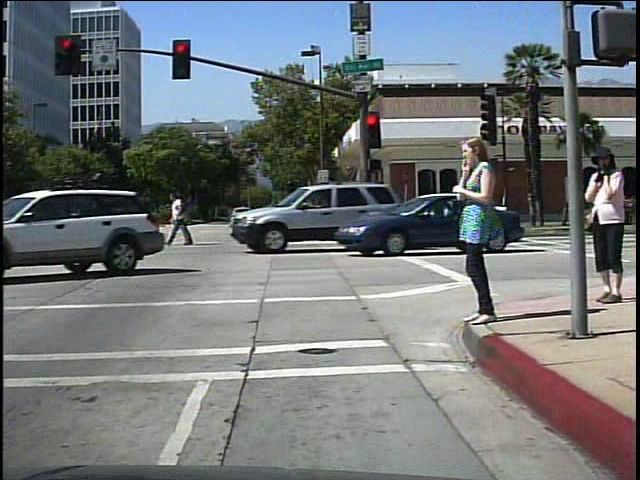person: (451, 127, 507, 327), (579, 139, 626, 311)
